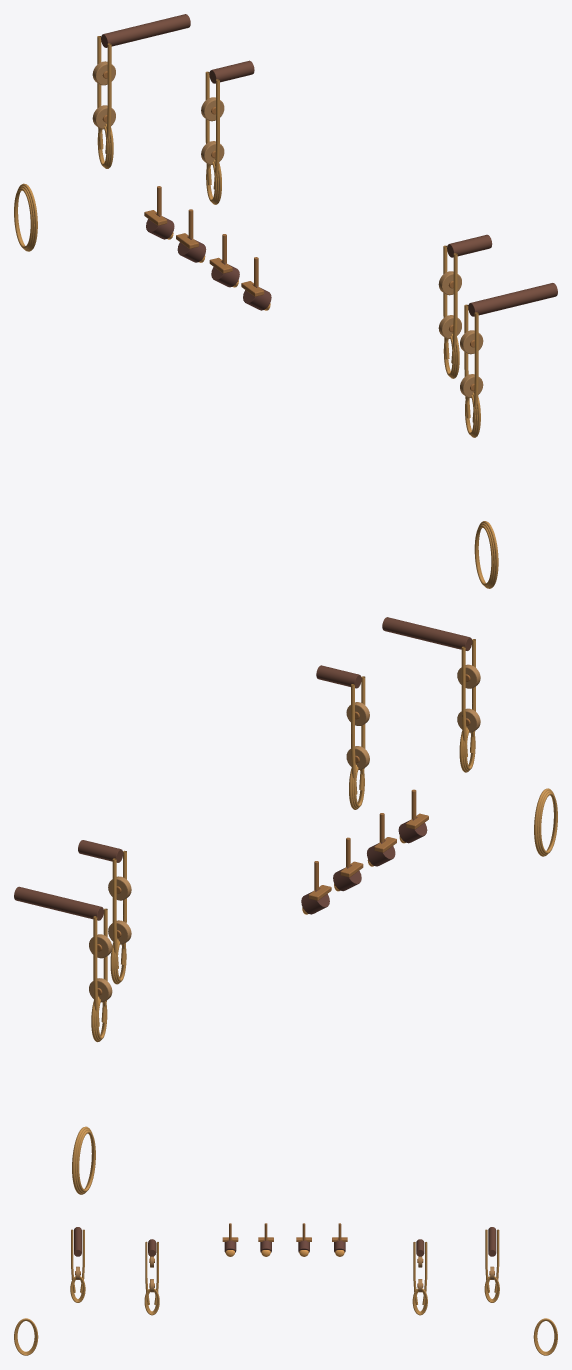
The model's file is SM_Hub_FlyRig.fbx.
3 views of the same model, one above another, from view 1: azimuth 30°, elevation 25°; view 2: azimuth 150°, elevation 25°; view 3: azimuth 270°, elevation 25° (orthographic). The views are drawn at different scales.
Visible parts, largest first — view 1: Pulley mounting beam.004_Baked; view 2: Pulley mounting beam.004_Baked; view 3: Pulley mounting beam.004_Baked.
Part boxes in pixels (x1,y1,x2,y2): Pulley mounting beam.004_Baked: [14, 14, 557, 588]; Pulley mounting beam.004_Baked: [14, 617, 557, 1194]; Pulley mounting beam.004_Baked: [14, 1223, 557, 1355].
Bounding box in the file's own units: 254 × 1217 × 339.
